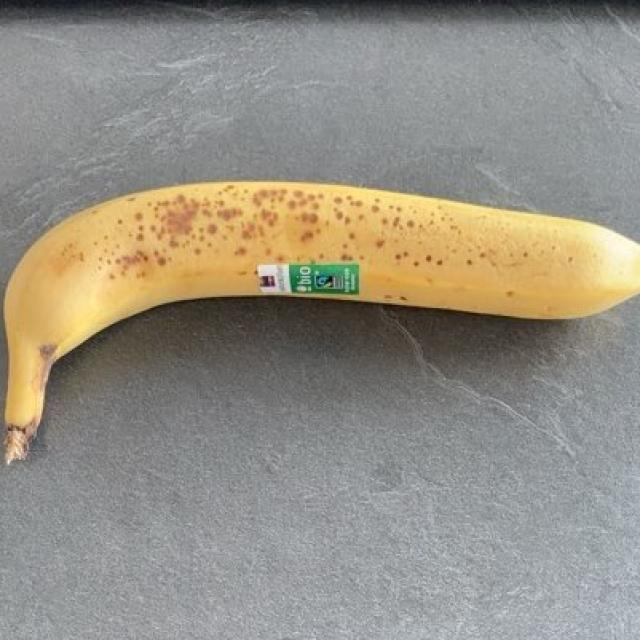banana: (7, 175, 626, 438)
